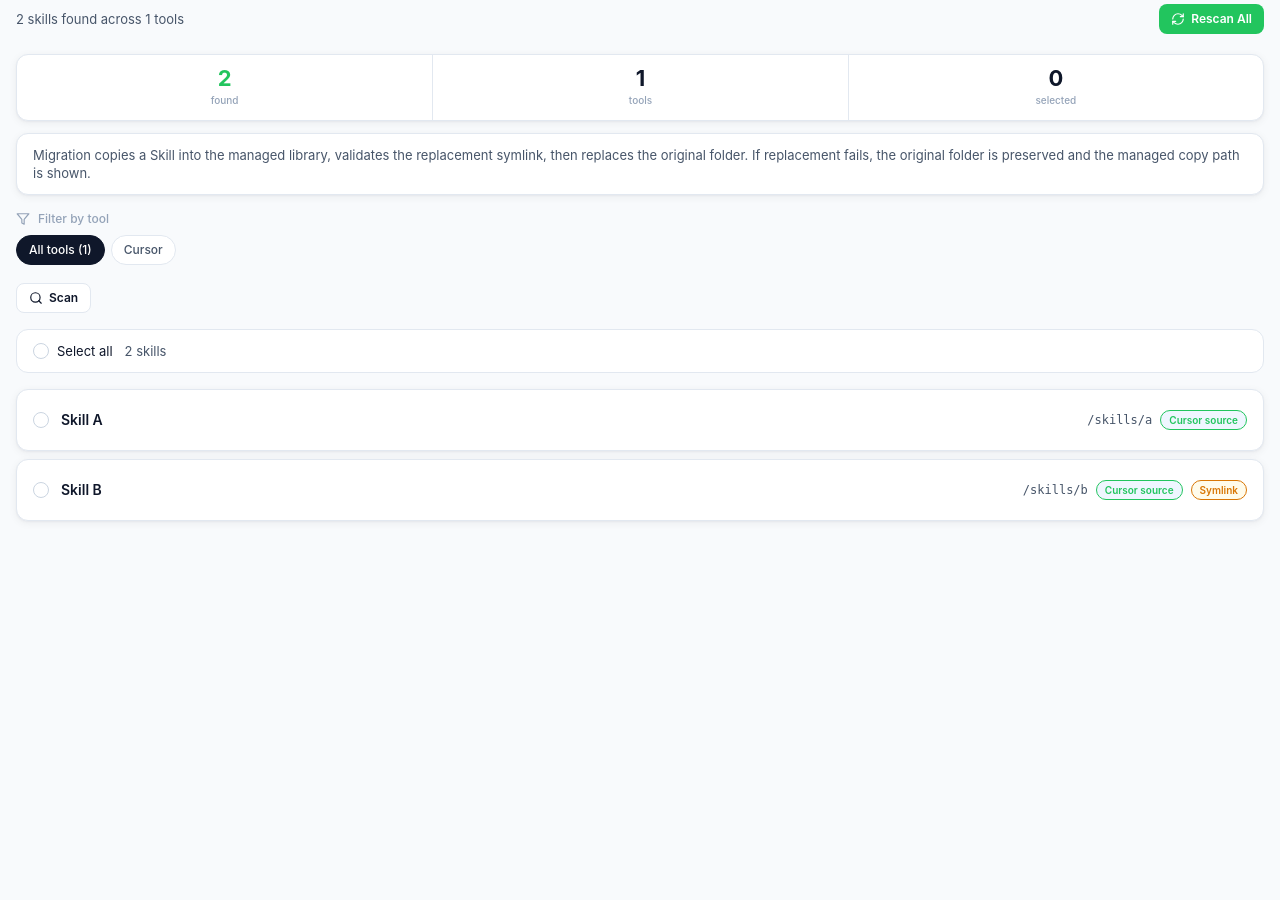
MigratePage › does not auto-rescan again after a successful migration batch
The image size is (1280, 900).
Check: the text "Skill A" is shown, box [61, 411, 103, 428]
Click the checkbox named "Select Skill A" at x=41, y=420, box [33, 412, 49, 428]
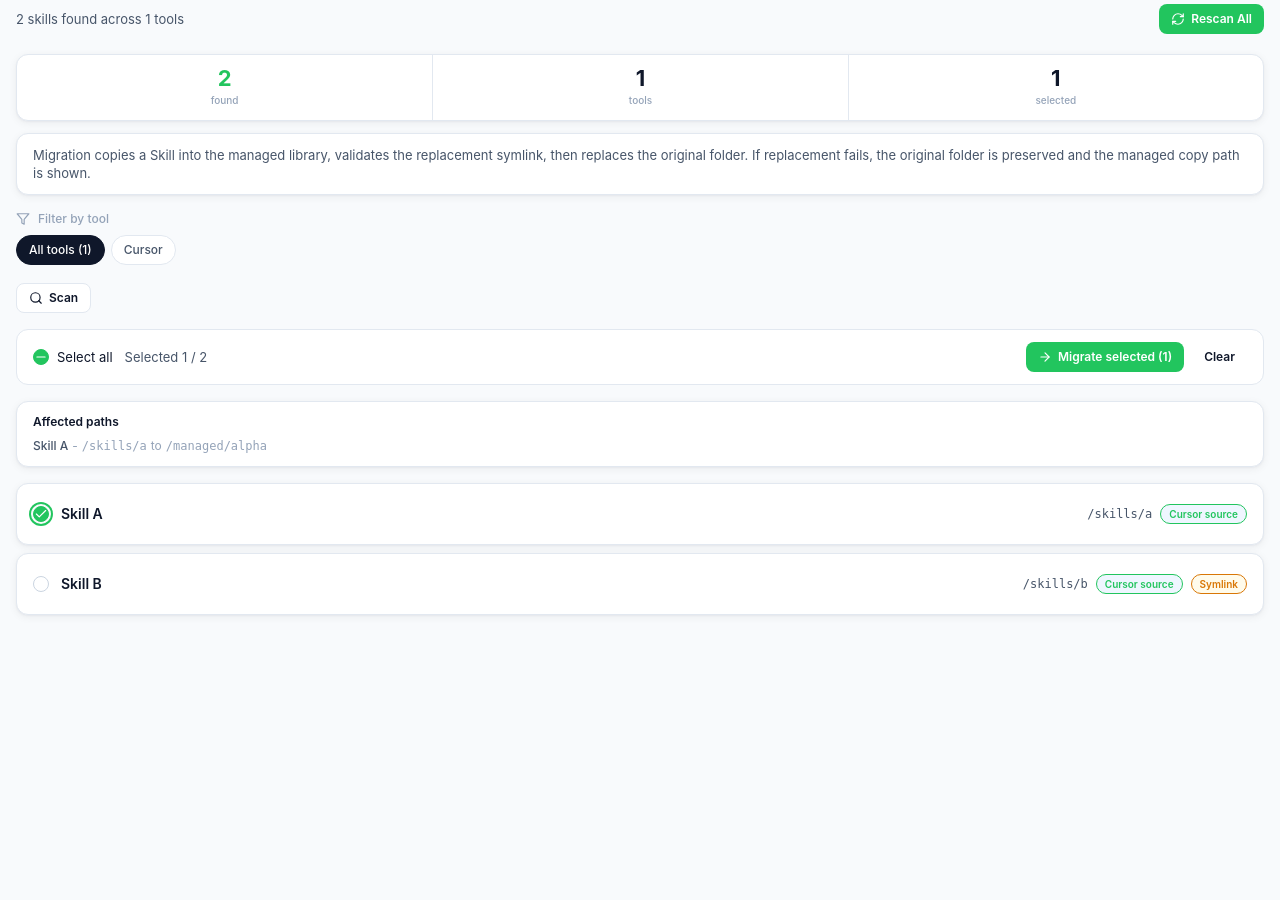
Click the checkbox named "Select Skill B" at x=41, y=584, box [33, 576, 49, 592]
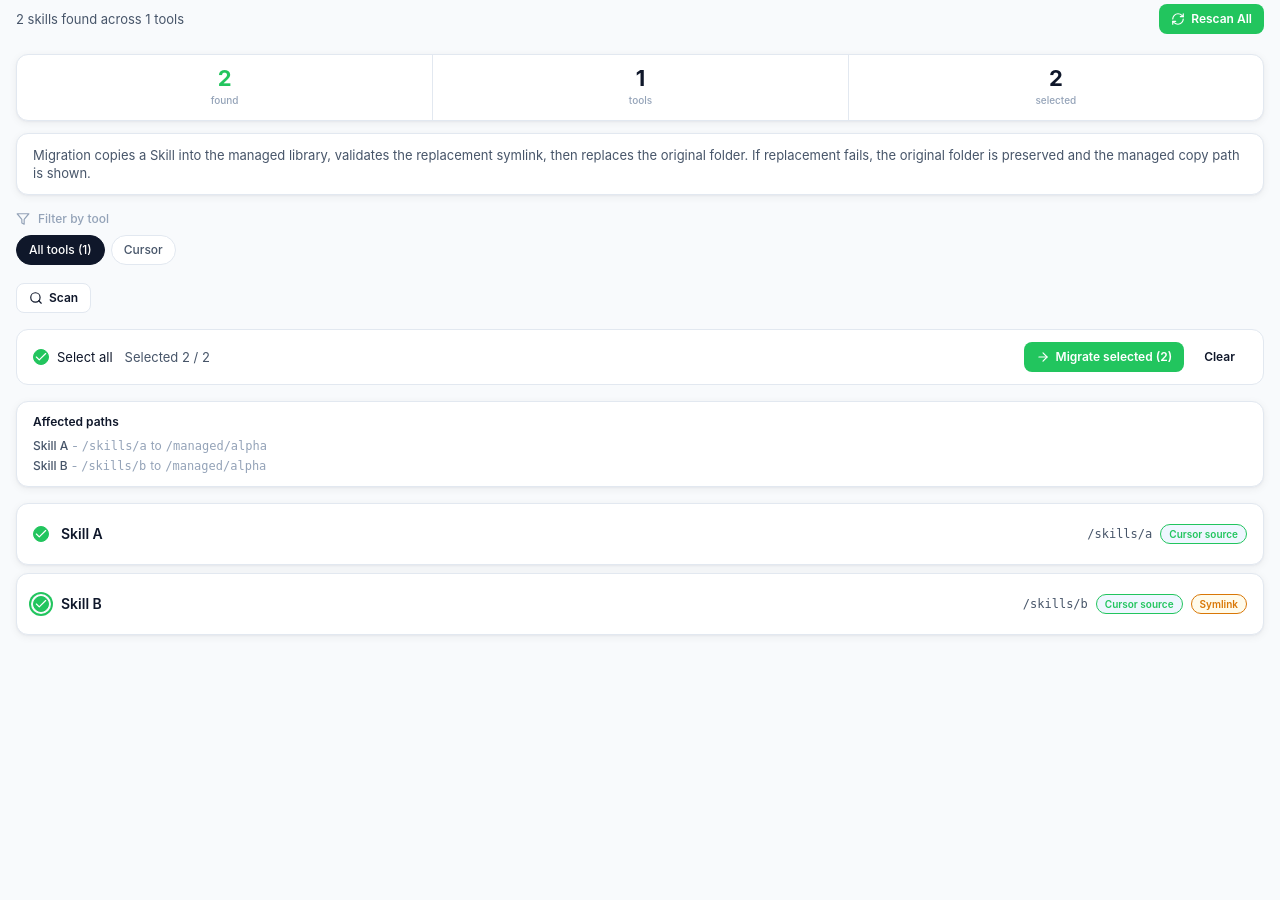
Click the button "Migrate selected (2)" at x=1104, y=357, box [1024, 342, 1184, 372]
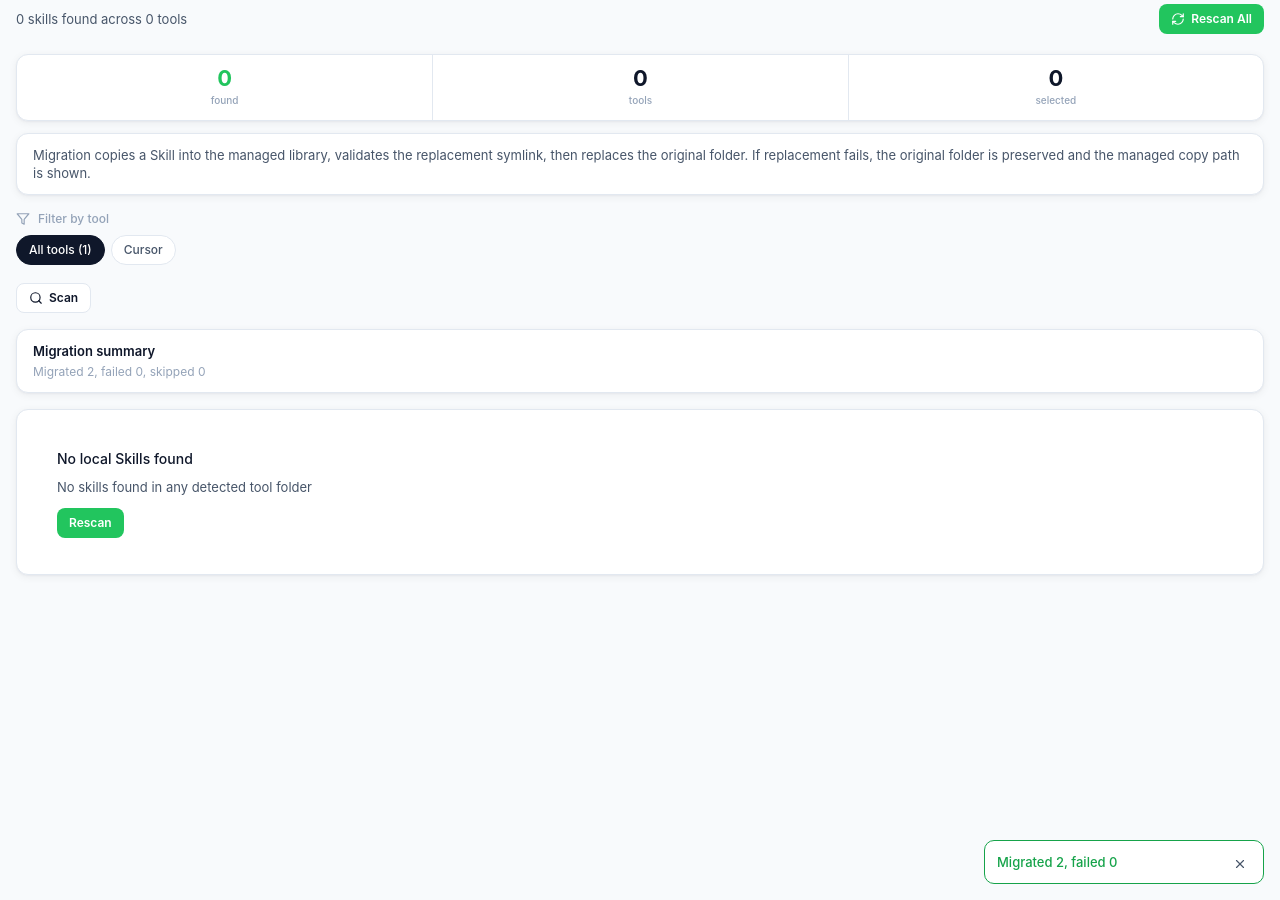
Check: the text "Skill A" is gone
Check: the text "Skill B" is gone
Check: the text "Migration summary" is shown, box [33, 343, 155, 359]
